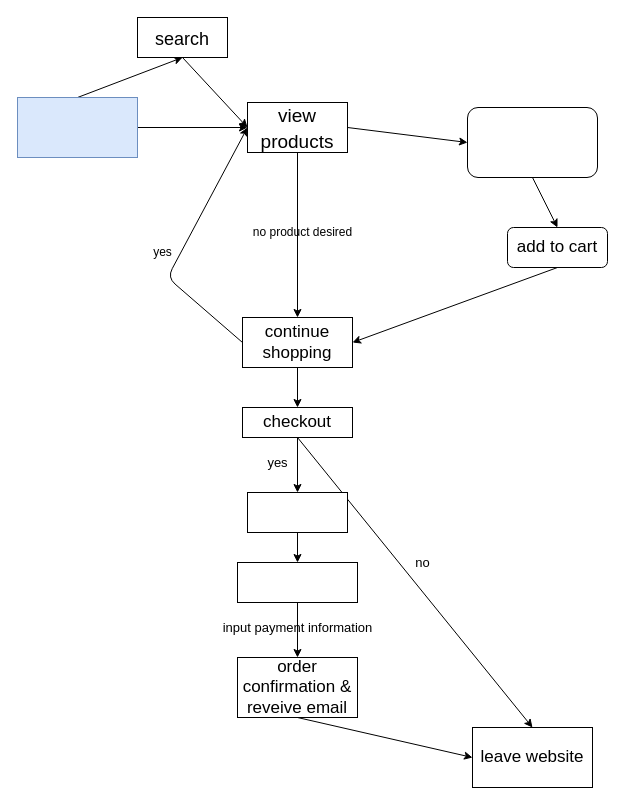
Some shapes in this 625 by 805 pixel diagram are drawn without their labels. The centre of each missing label's shape, as x and y in pixels:
"Home Page" belongs at pixel 77 127.
"specific product webpage" belongs at pixel 532 142.
"view cart" belongs at pixel 297 512.
"view payment" belongs at pixel 297 582.
